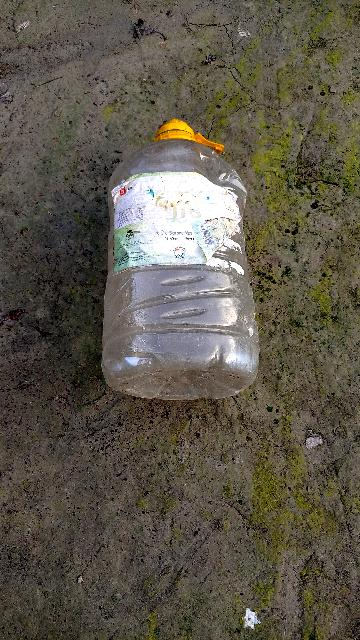bottle: (109, 132, 266, 405)
